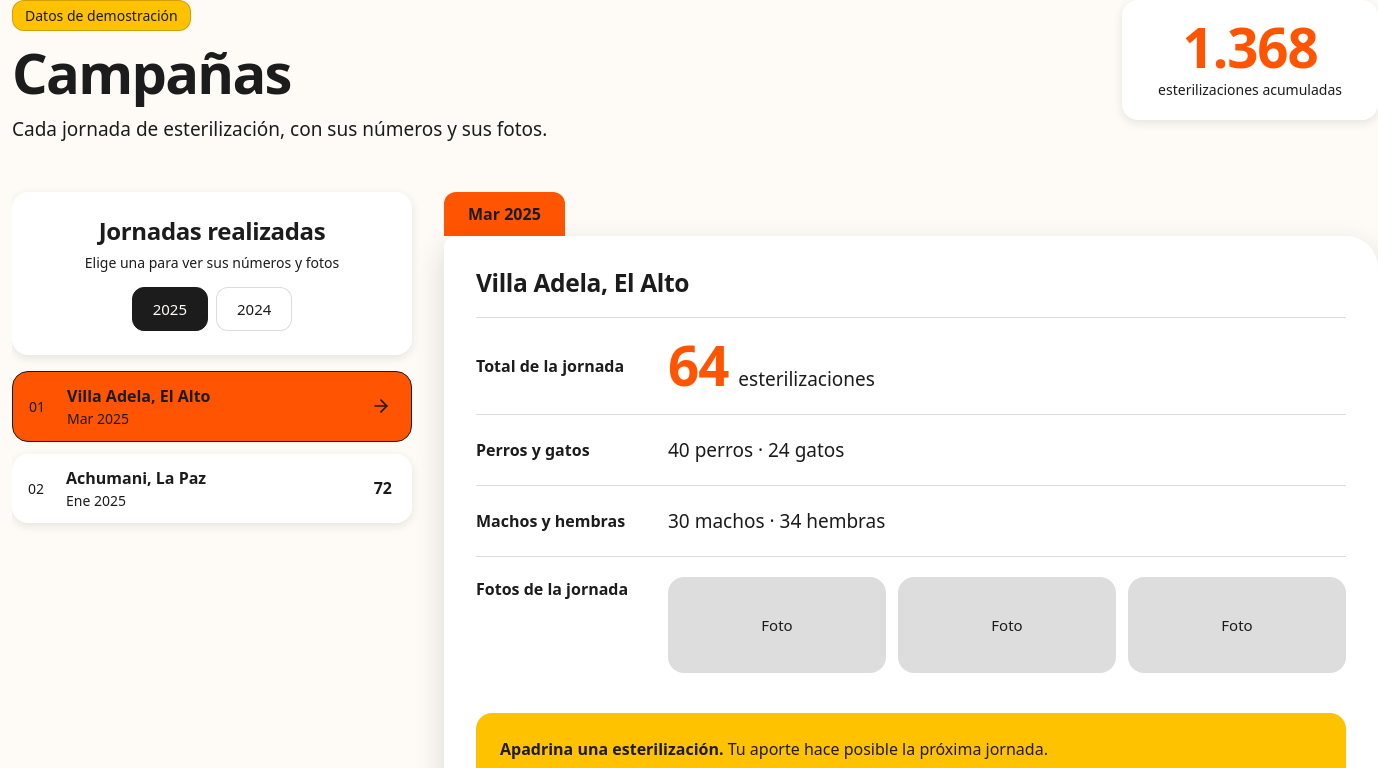
Campaigns en modo demostración › cambia de año y permite abrir el detalle de cada campaña
Expected: the button "Datos de demostración" is shown, [12,0,191,31]
Expected: the text "Villa Adela, El Alto" is shown 2 times, [67,385,210,407]; [476,266,689,299]
Click the button "2024".
click(254, 309)  # box [216,287,292,331]
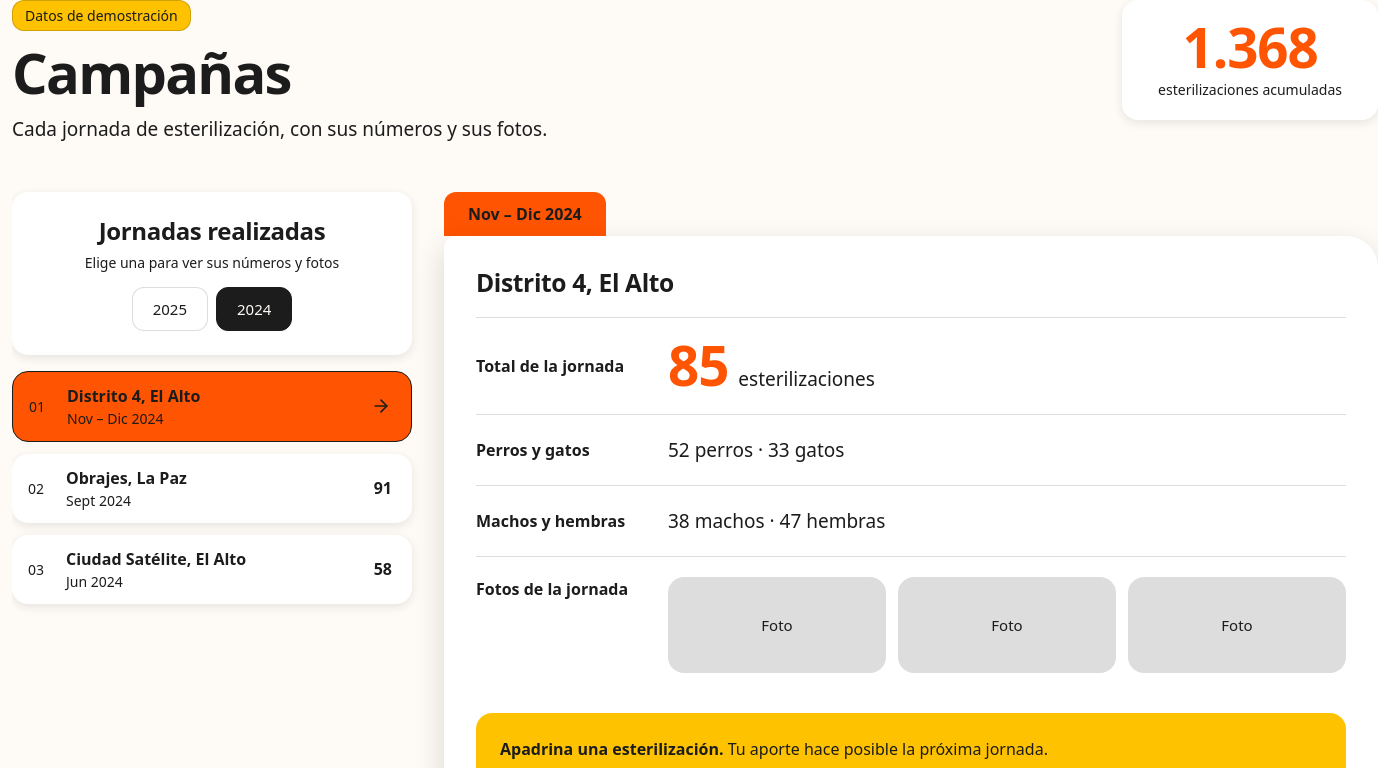
Result: the text "Distrito 4, El Alto" is shown 2 times at [67,385,200,407]; [476,266,674,299]
Click the option "02 Obrajes, La Paz Sept 2024 91".
click(126, 478)  # box [12,454,412,523]
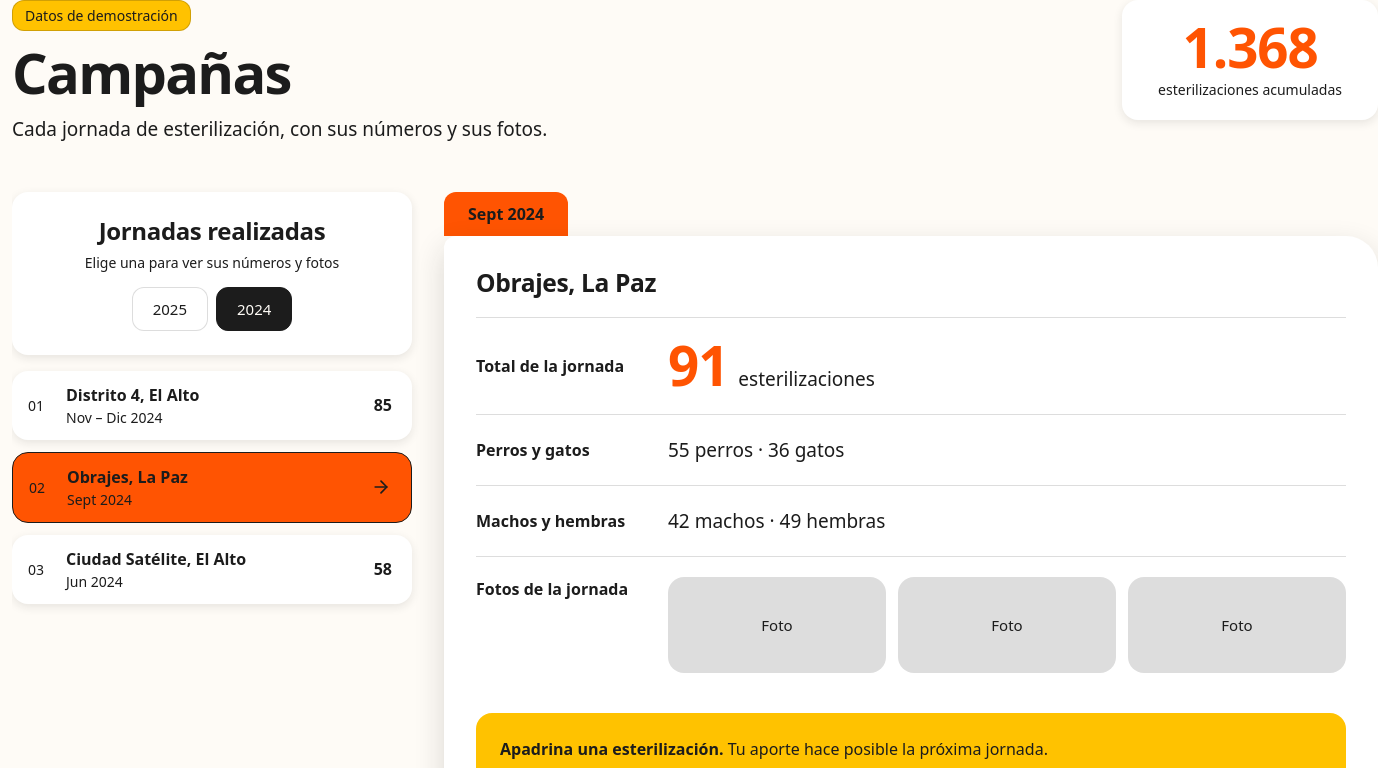
Result: the heading "Obrajes, La Paz" is shown at [476,266,656,299]
Result: the text "91" is shown at [668,338,728,393]
